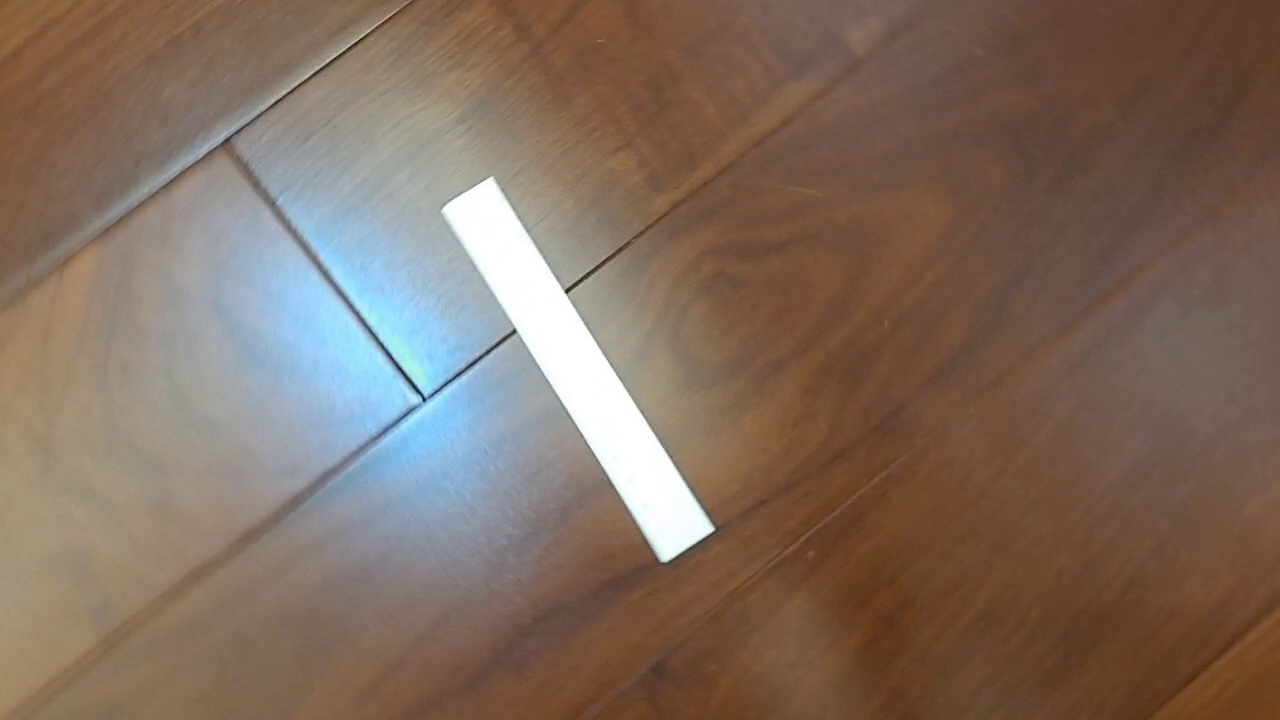ruler: (438, 173, 719, 565)
